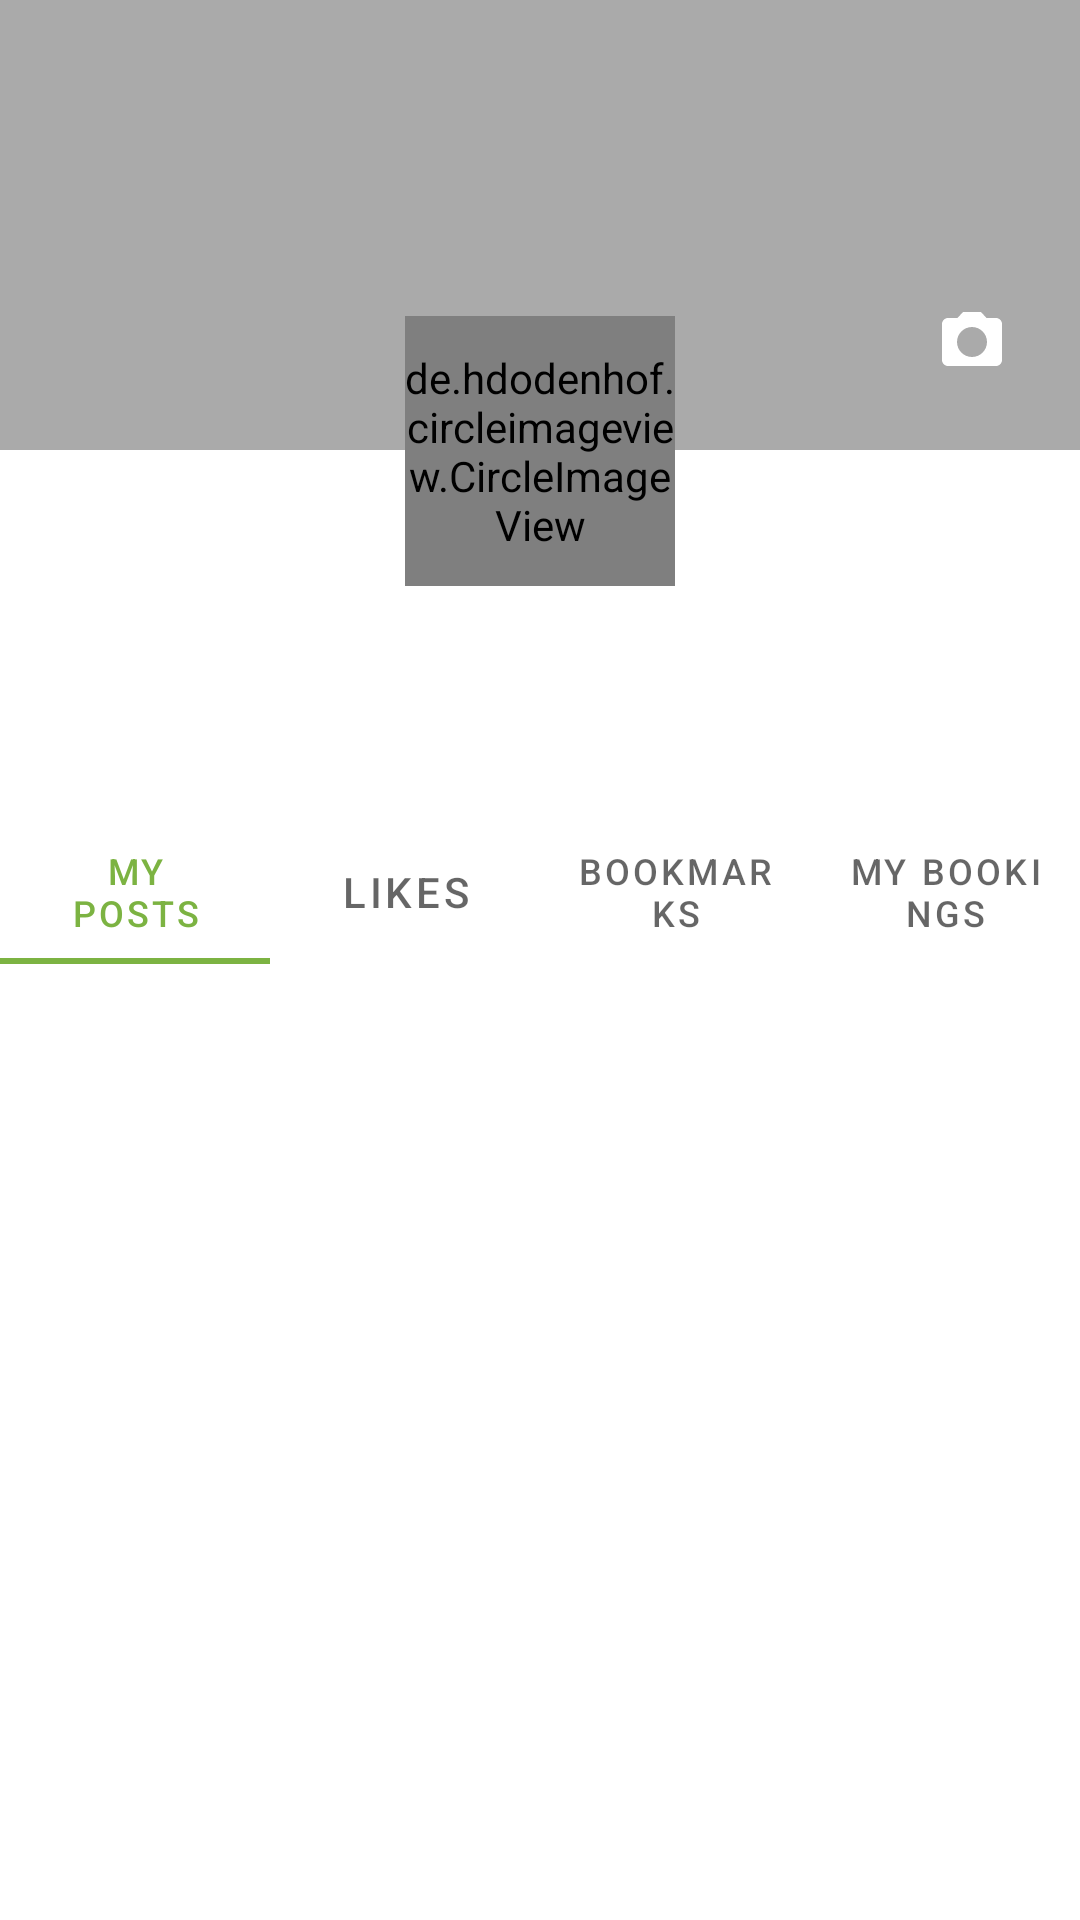

Named icons in this screenshot (1080 x 1920) and their centers, (x,y):
camera: (972,339)
